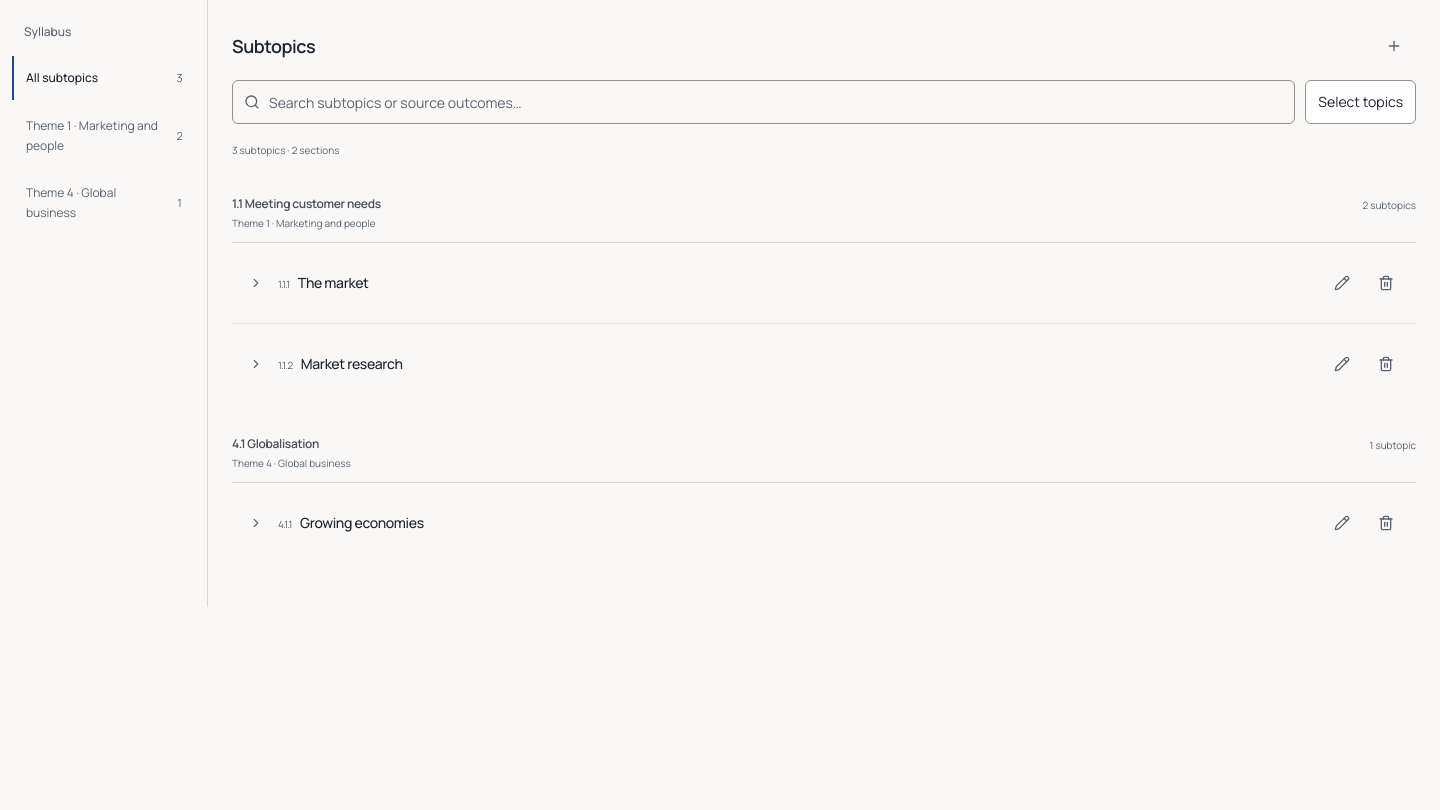
Test: ProfileSubtopicEditor › shows subtopics without PDF page captions and retains every literal outcome and stored source reference
The image size is (1440, 810).
Check: the element "The market" is shown, box [234,261,1408,305]
Check: the element "Market research" is shown, box [234,342,1408,386]
Step 1. Click the button named "Show source outcomes" → (256,283), box [234,261,278,305]
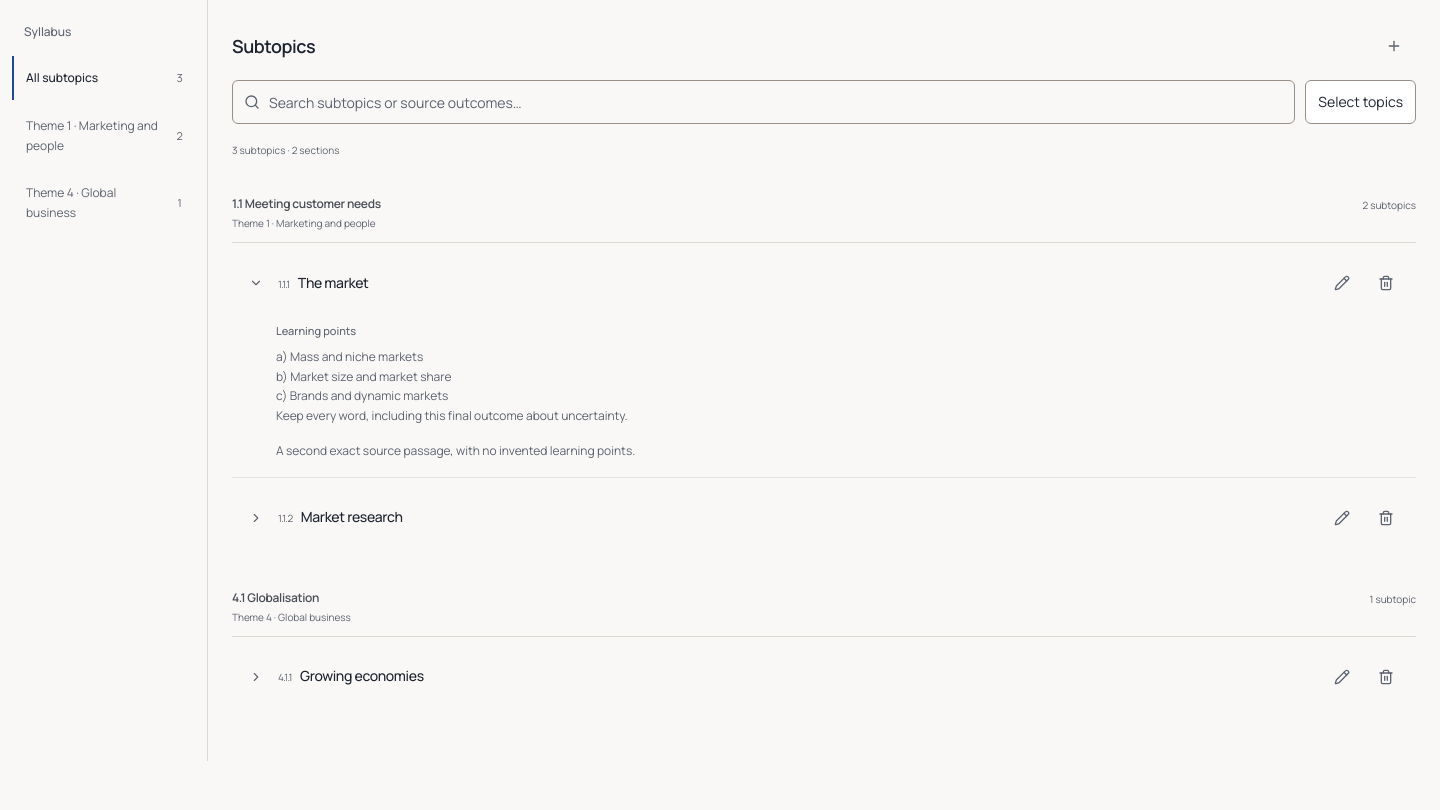
Check: the text "A second exact source passage" is shown, box [276,442,635,459]
